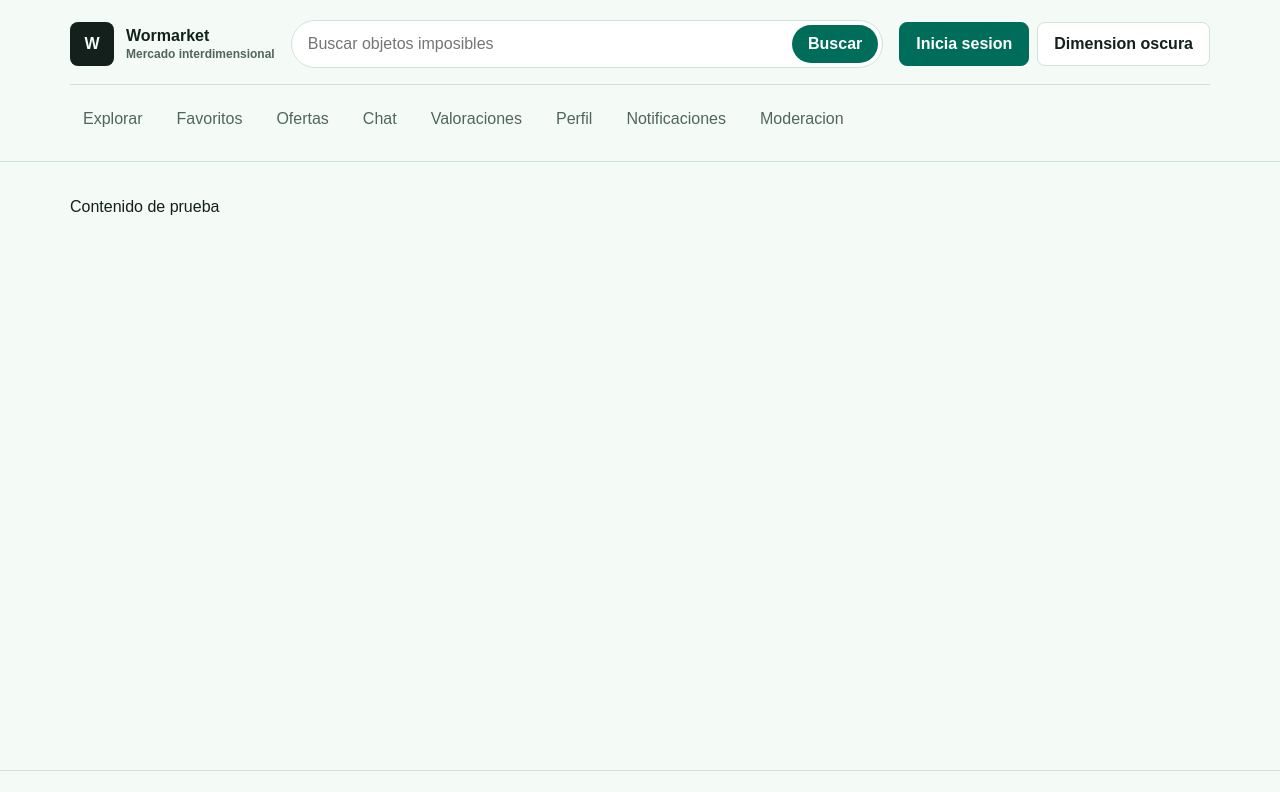
Scenario: RootLayout › toggles the theme action label
Click the button "Dimension oscura": (1124, 44) [1037,22,1210,66]
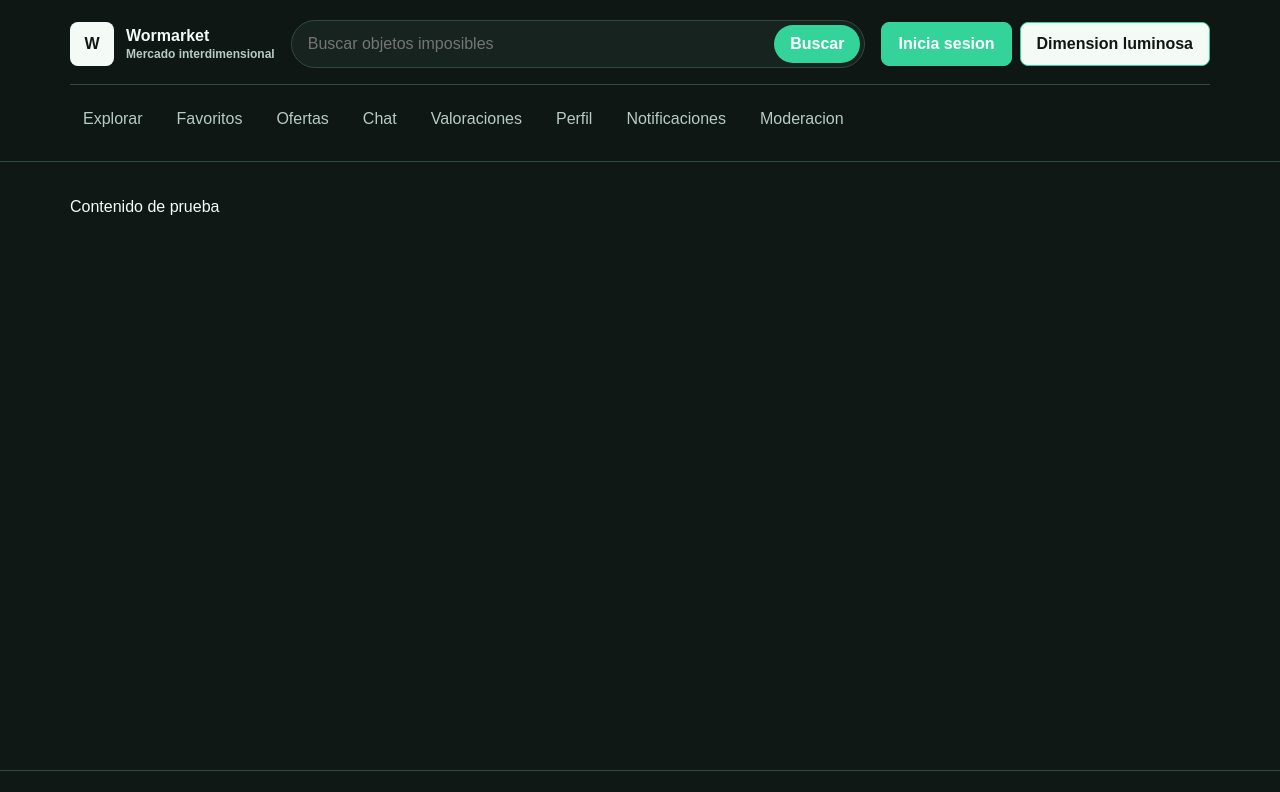
Now the button "Dimension luminosa" is shown, box [1020,22,1210,66]
